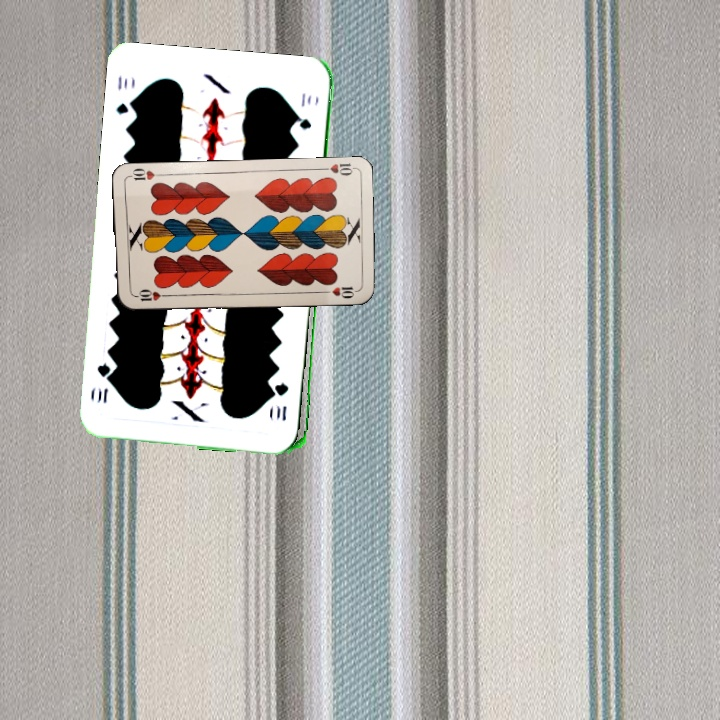G10: (112, 71, 138, 117), (272, 379, 291, 423)
H10: (130, 286, 171, 304), (315, 160, 356, 178)
